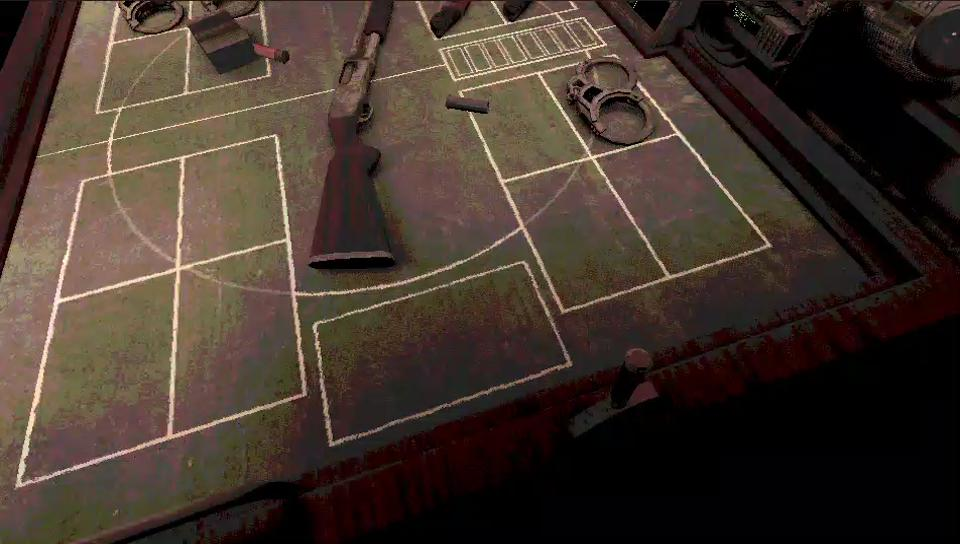ally: (0, 22, 865, 542)
cigar: (189, 13, 268, 73)
emptyspace: (19, 269, 178, 483), (171, 239, 303, 438), (595, 133, 769, 279), (505, 158, 667, 313), (55, 158, 180, 303), (178, 133, 289, 269), (459, 73, 591, 181)
enemyspace: (41, 0, 616, 140)
gun: (308, 0, 394, 268)
handcuff: (568, 57, 655, 145)
